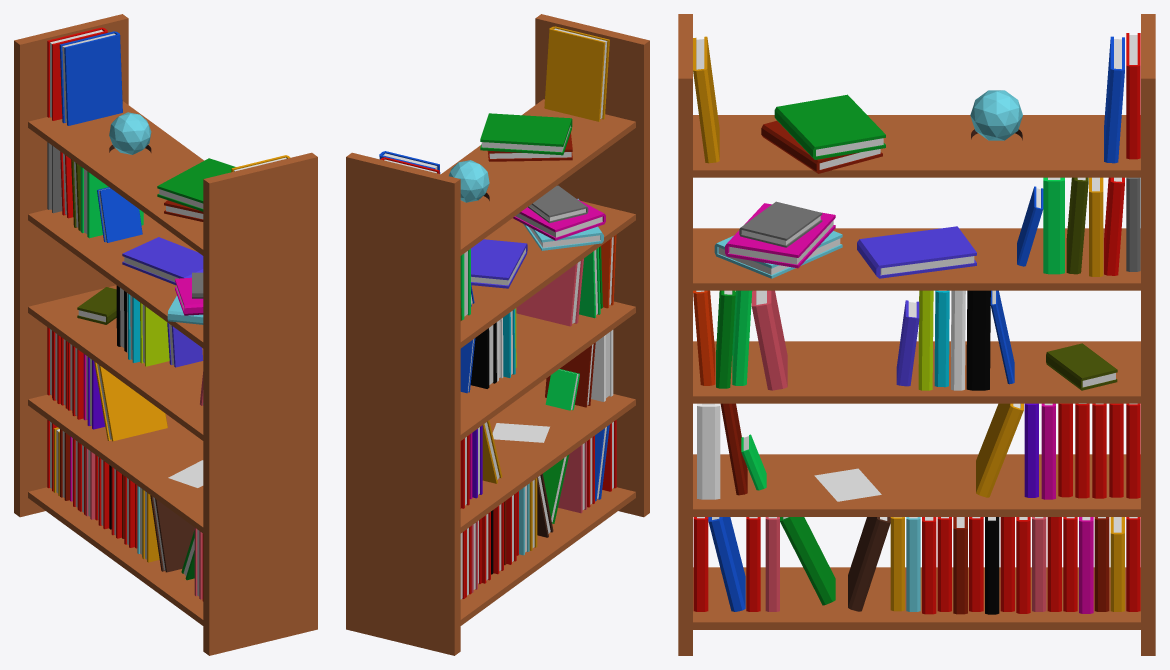
Rendered from bookshelf.gltf.
The picture shows the model from 3 angles, left to right: view 1: azimuth 30°, elevation 25°; view 2: azimuth 150°, elevation 25°; view 3: azimuth 270°, elevation 25°; orthographic projection. The views are drawn at different scales.
Visible parts, largest first — view 1: Cube.019_20, Cube.019_0, Cube.019_4, Cube.019_5, Cube.019_7, Cube.019_15, Cube.019_8, Cube.019_2, Cube.019_3, Cube.019_14, Cube.019_17, Cube.019_6 (+7 smaller); view 2: Cube.019_20, Cube.019_0, Cube.019_7, Cube.019_4, Cube.019_6, Cube.019_3, Cube.019_1, Cube.019_8, Cube.019_15, Cube.019_9, Cube.019_5, Cube.019_12 (+7 smaller); view 3: Cube.019_20, Cube.019_4, Cube.019_7, Cube.019_3, Cube.019_0, Cube.019_5, Cube.019_9, Cube.019_6, Cube.019_15, Cube.019_11, Cube.019_1, Cube.019_8 (+9 smaller).
Part boxes in pixels (x1,y1,x2,y2): Cube.019_20: [14, 14, 317, 655]; Cube.019_0: [50, 29, 286, 596]; Cube.019_4: [47, 27, 203, 601]; Cube.019_5: [59, 31, 142, 242]; Cube.019_7: [53, 155, 290, 562]; Cube.019_15: [122, 237, 203, 367]; Cube.019_8: [109, 112, 203, 556]; Cube.019_2: [109, 145, 194, 572]; Cube.019_3: [157, 158, 235, 580]; Cube.019_14: [71, 159, 116, 324]; Cube.019_17: [140, 302, 169, 366]; Cube.019_6: [85, 372, 203, 599]; Cube.019_20: [346, 14, 649, 655]; Cube.019_0: [383, 27, 613, 599]; Cube.019_7: [482, 26, 609, 550]; Cube.019_4: [380, 157, 616, 598]; Cube.019_6: [471, 258, 586, 592]; Cube.019_3: [480, 113, 602, 523]; Cube.019_1: [460, 247, 600, 410]; Cube.019_8: [449, 160, 603, 555]; Cube.019_15: [471, 239, 527, 288]; Cube.019_9: [487, 133, 595, 565]; Cube.019_5: [379, 151, 609, 501]; Cube.019_12: [496, 318, 613, 401]; Cube.019_20: [678, 14, 1155, 655]; Cube.019_4: [693, 33, 1140, 614]; Cube.019_7: [693, 36, 1124, 611]; Cube.019_3: [716, 94, 885, 605]; Cube.019_0: [696, 35, 1137, 532]; Cube.019_5: [708, 36, 1124, 611]; Cube.019_9: [720, 120, 1109, 614]; Cube.019_6: [751, 290, 1046, 611]; Cube.019_15: [857, 226, 976, 386]; Cube.019_11: [725, 203, 1093, 613]; Cube.019_1: [732, 177, 1064, 490]; Cube.019_8: [714, 90, 1022, 611].
Bounding box in the file's own units: 2 × 8.31 × 6.23.
